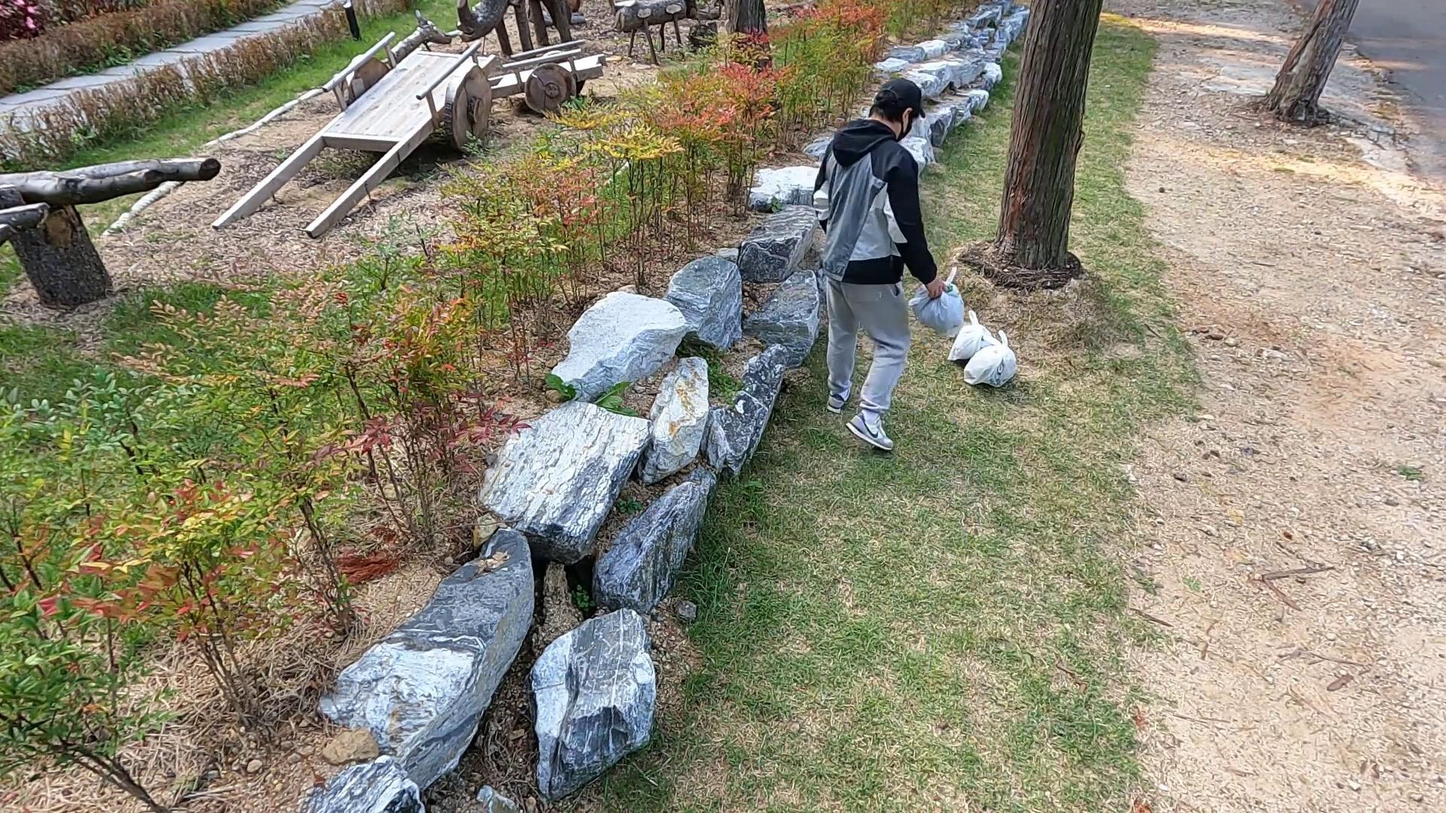person: (814, 67, 947, 457)
trash: (906, 270, 972, 334), (962, 326, 1023, 392), (950, 307, 1003, 364)
